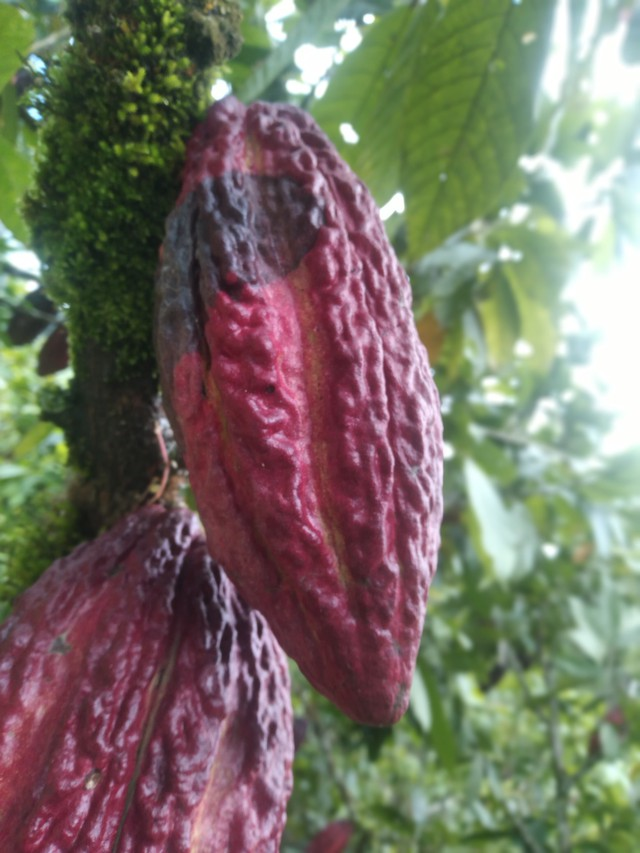phytophthora palmivora: (144, 83, 451, 731)
